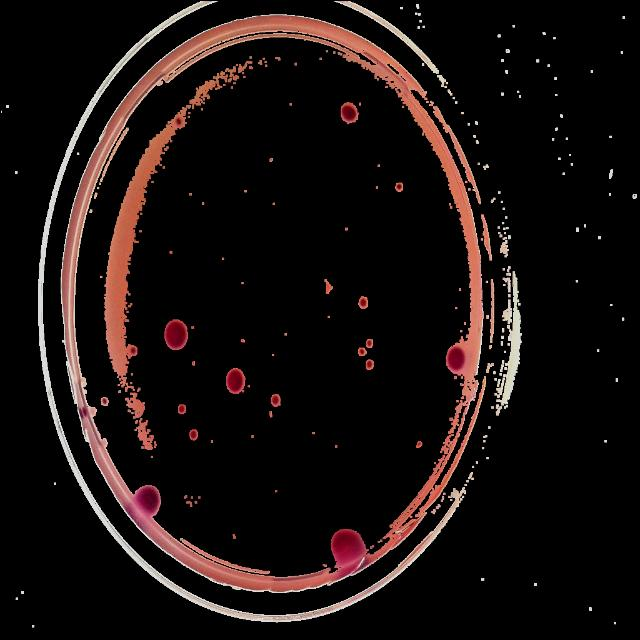colony: (327, 530, 367, 566), (136, 485, 160, 515), (165, 320, 188, 350), (444, 344, 466, 374), (227, 368, 246, 394), (340, 103, 358, 123), (128, 344, 138, 356), (358, 296, 368, 308), (272, 395, 280, 407), (101, 396, 109, 406), (190, 430, 198, 440), (178, 404, 186, 414), (366, 361, 374, 369), (358, 348, 366, 356), (176, 120, 184, 128), (396, 182, 402, 192), (367, 339, 373, 347), (416, 442, 422, 448), (192, 362, 195, 366), (188, 194, 192, 196), (202, 202, 204, 205), (248, 386, 250, 388), (184, 496, 186, 498), (198, 497, 200, 499), (195, 501, 197, 503), (270, 159, 272, 161), (245, 190, 247, 192), (346, 228, 348, 230), (378, 165, 380, 167), (385, 86, 387, 88), (402, 106, 404, 108), (252, 436, 254, 438), (269, 411, 271, 413), (271, 415, 273, 417), (312, 432, 314, 434), (335, 446, 337, 448), (242, 339, 244, 341), (272, 354, 274, 356), (328, 316, 330, 318), (242, 282, 244, 284), (222, 257, 224, 259), (170, 252, 172, 254), (192, 326, 194, 328), (233, 534, 234, 536), (377, 186, 378, 188), (211, 441, 213, 442), (186, 496, 187, 496), (192, 498, 192, 498), (188, 502, 188, 503), (188, 502, 190, 502), (190, 502, 190, 503), (190, 506, 192, 506), (234, 538, 236, 538), (274, 202, 274, 204), (286, 334, 286, 334), (275, 492, 277, 492)
